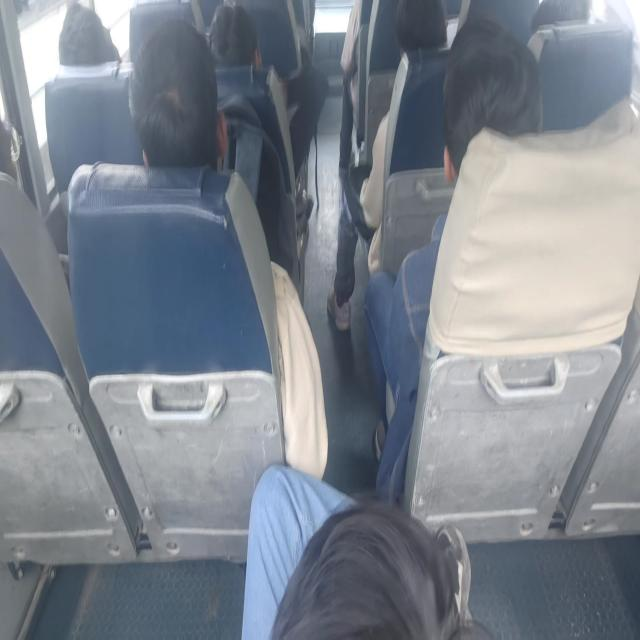person: (264, 499, 492, 640), (446, 30, 534, 194), (133, 42, 225, 185), (200, 0, 262, 71), (54, 5, 118, 69), (394, 0, 453, 56), (0, 116, 27, 182), (540, 0, 592, 31)
